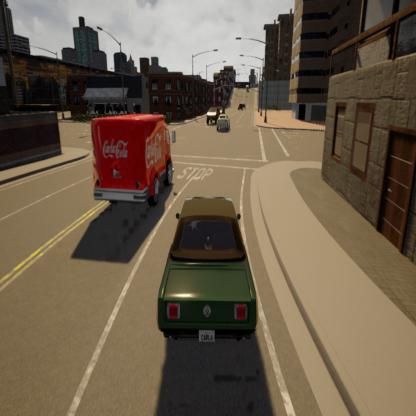Cars: (161, 145, 273, 371), (80, 70, 183, 230), (213, 104, 235, 139), (233, 84, 252, 119), (202, 96, 218, 129)
